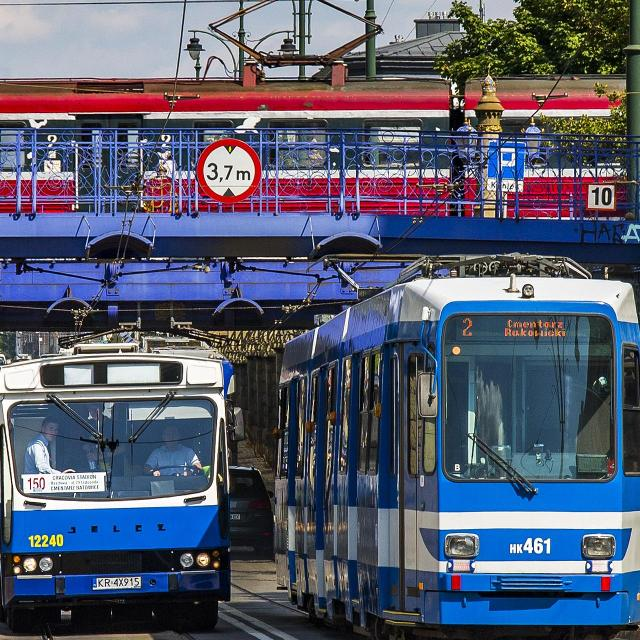Bus: (0, 344, 240, 633)
